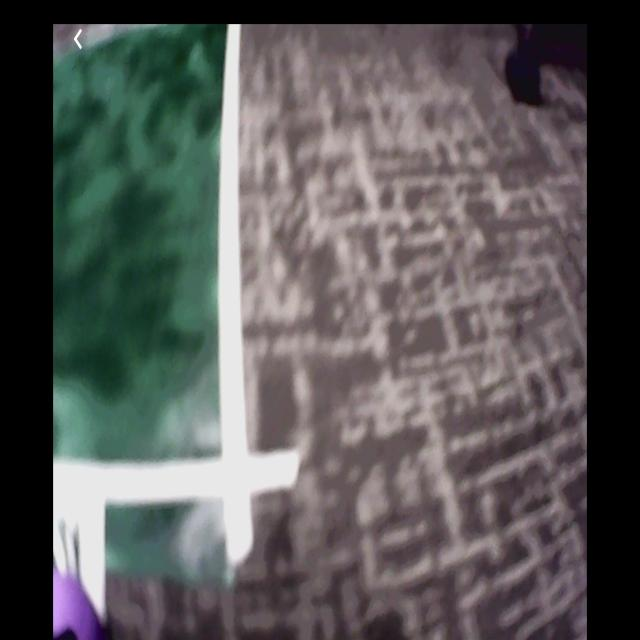ball: (52, 563, 102, 640)
